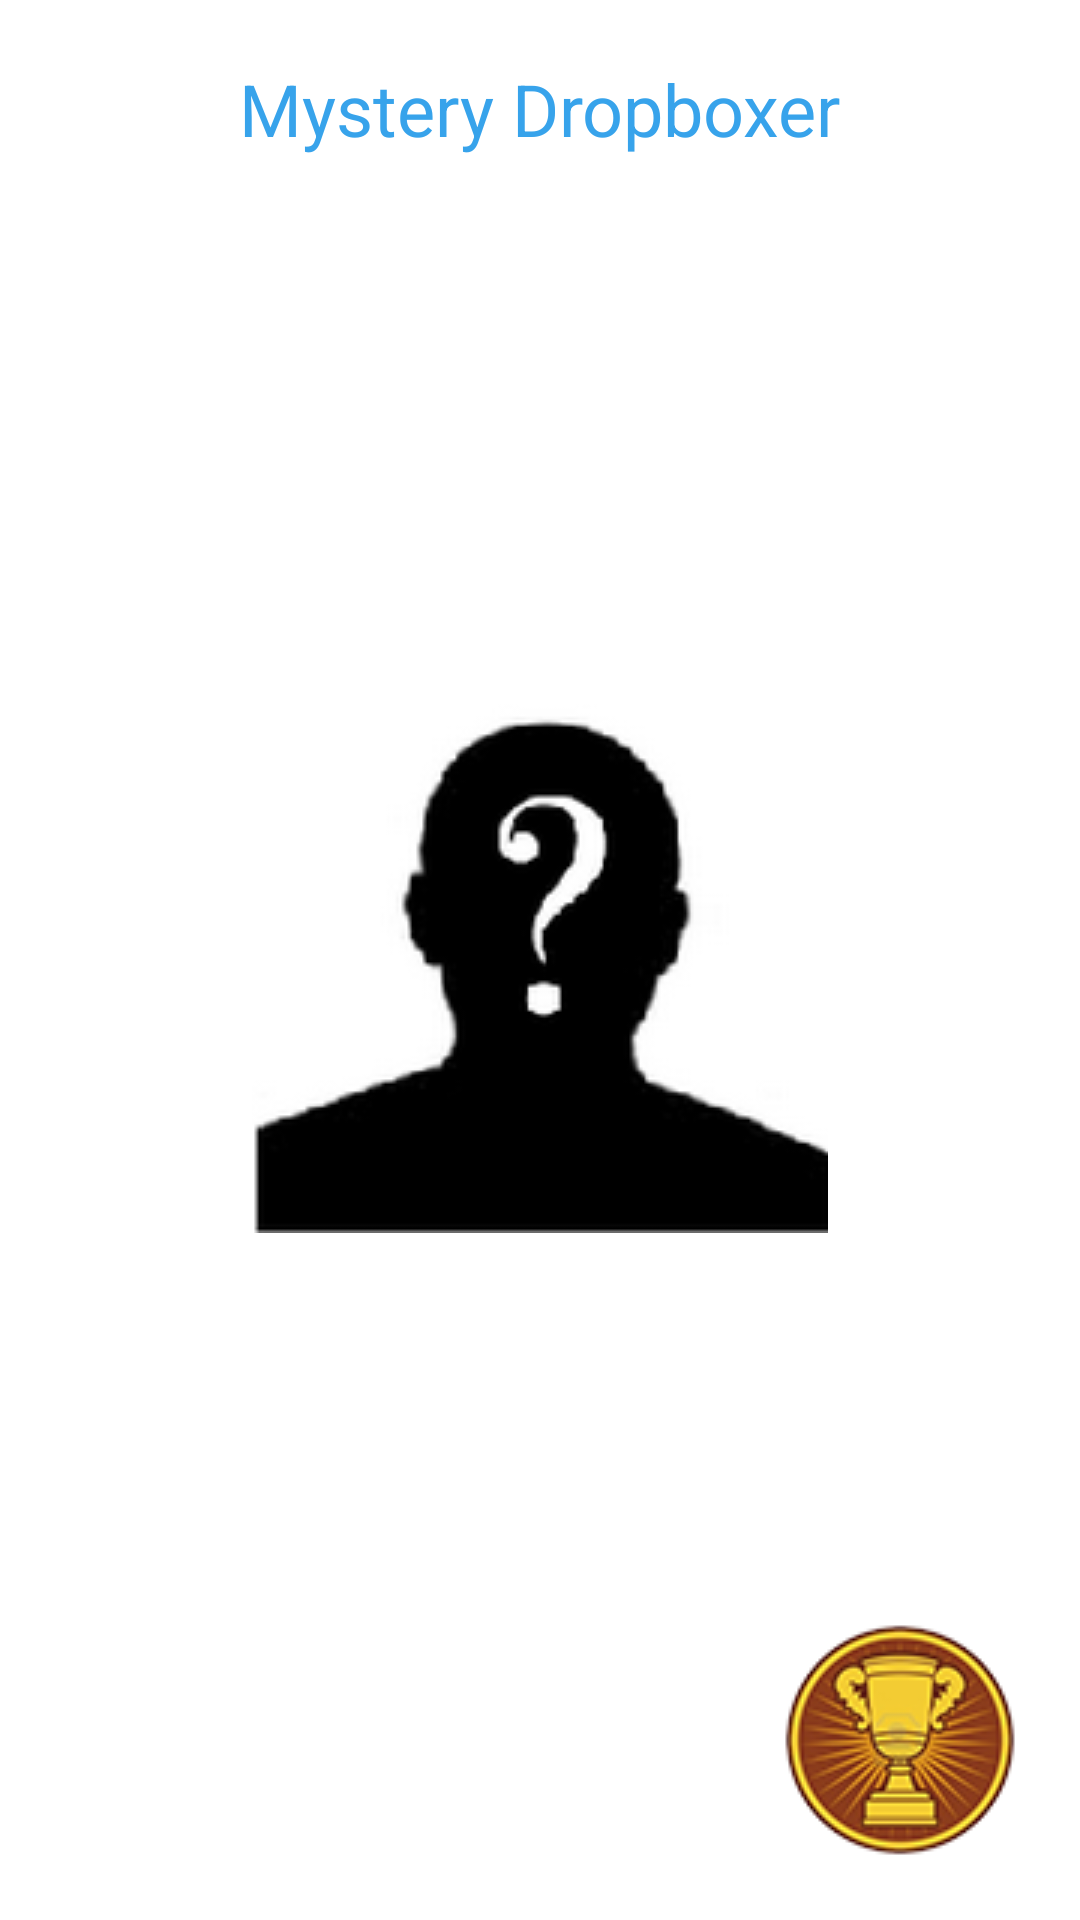

Icon click points for this 1080px x 1920px phone screenshot, format (x,y):
leaderboard: (900,1740)
